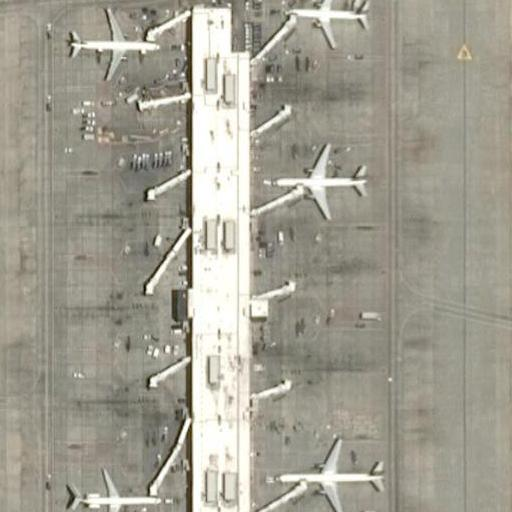Aircraft: (276, 432, 389, 511), (267, 140, 369, 216), (61, 5, 164, 79), (61, 467, 168, 512), (284, 0, 373, 47)
